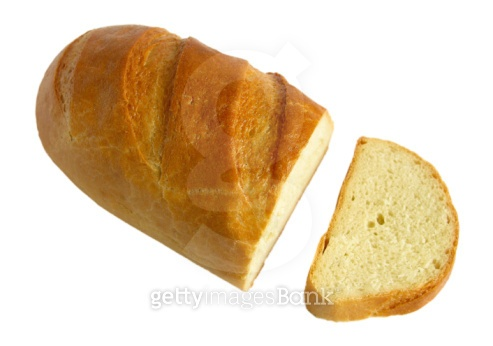slice of bread: (166, 71, 325, 291), (307, 136, 464, 315)
